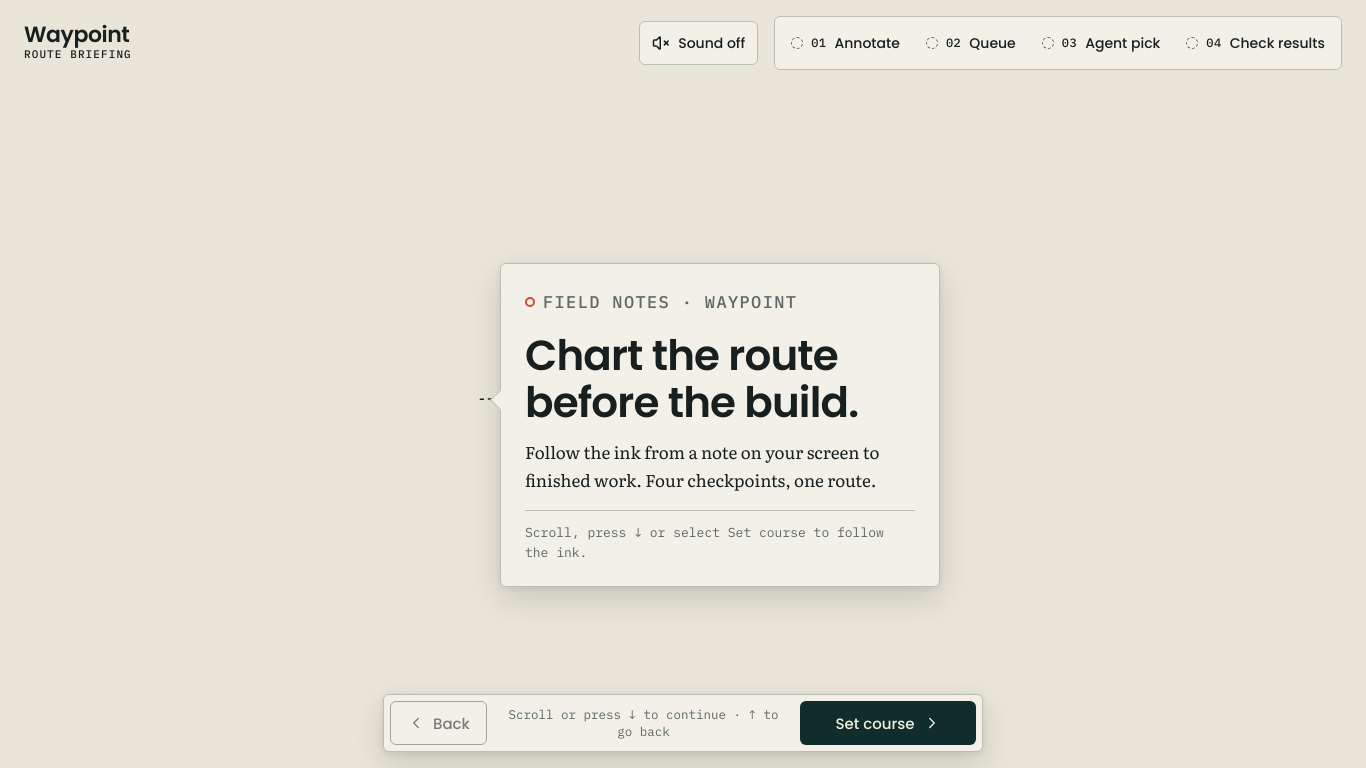
OpenDesign ink map journey › pauses at zero visible area even while intersecting and resumes the same unfinished leg
The image size is (1366, 768).
Click the button "Set course". click: (888, 723)
box: [800, 701, 976, 745]
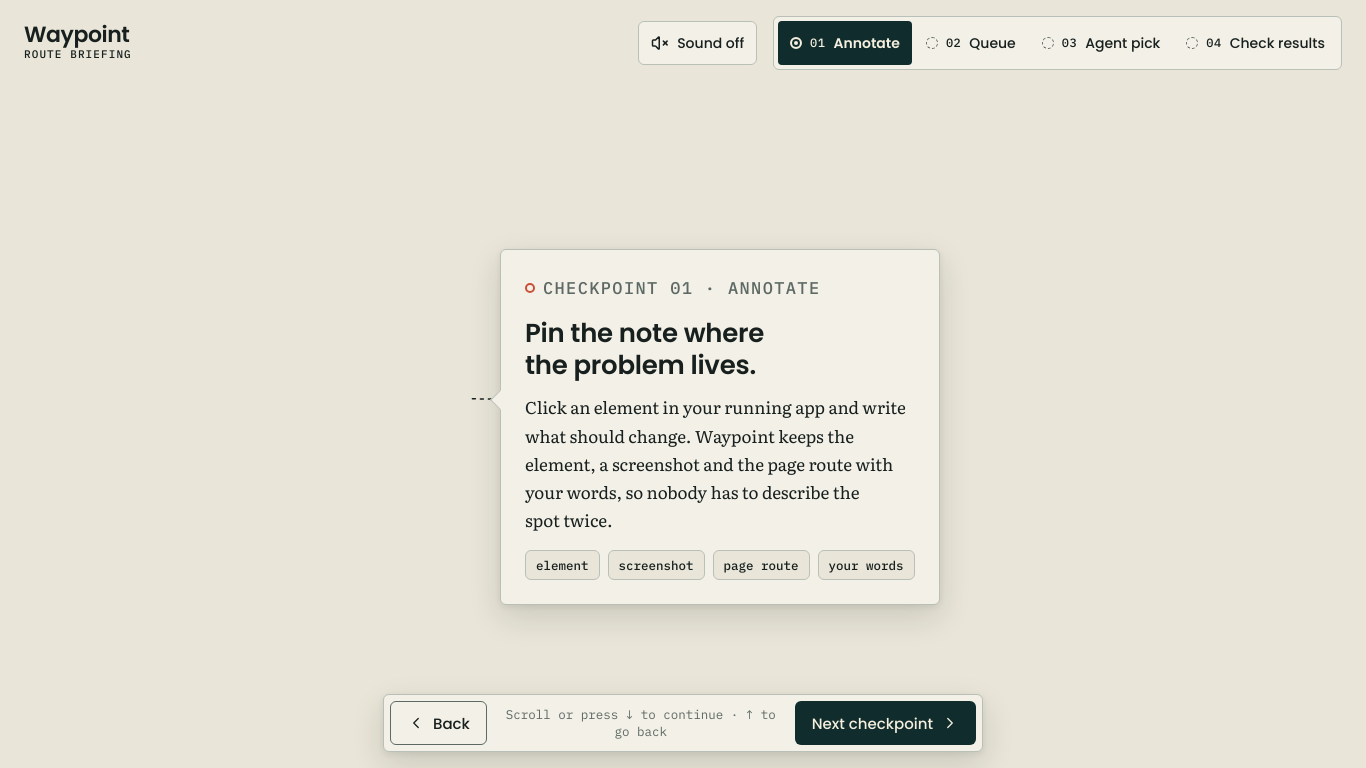
Check: the button named "Charting…" is shown, box [795, 701, 976, 745]
Check: the heading "Pin the note where the problem lives." is shown, box [525, 315, 764, 383]
